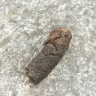Dog: (25, 28, 72, 83)
